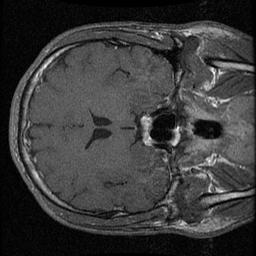pituitary tumour: (139, 114, 154, 147)
